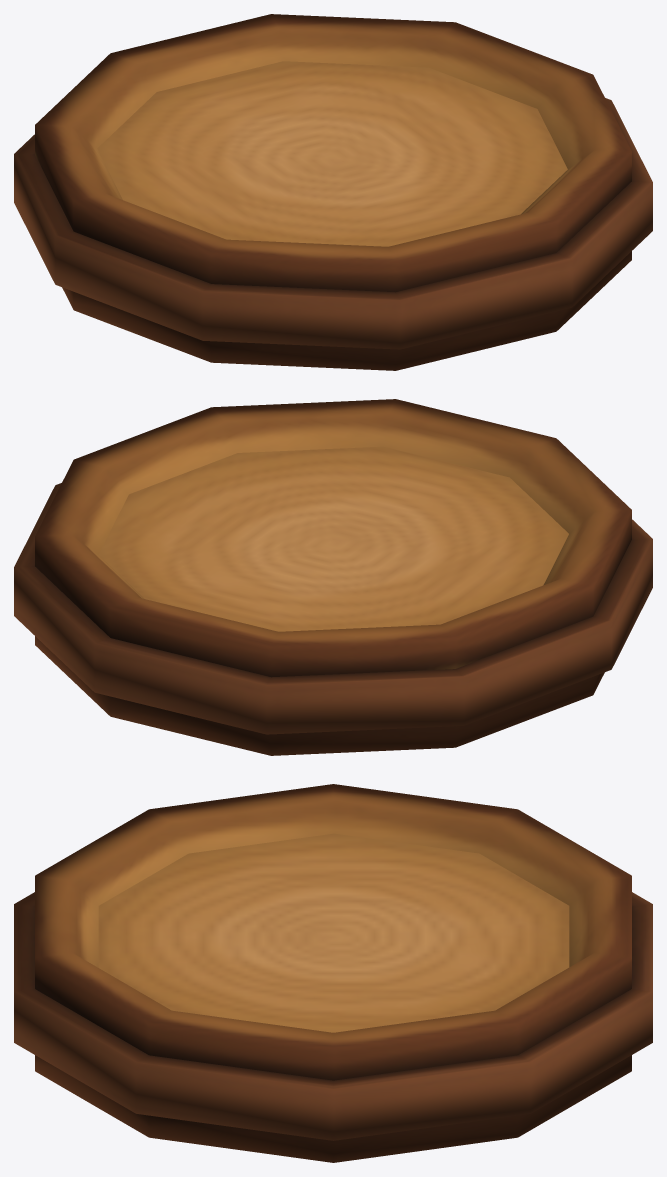
Rendered from JetonBois.FBX.
The picture shows the model from 3 angles, top to bottom: view 1: azimuth 30°, elevation 25°; view 2: azimuth 150°, elevation 25°; view 3: azimuth 270°, elevation 25°; orthographic projection. The views are drawn at different scales.
Visible parts, largest first — view 1: JetonBois; view 2: JetonBois; view 3: JetonBois.
Boxes of the visible parts, x1,y1,x2,y2 form: JetonBois: (14,14,652,370); JetonBois: (14,399,652,755); JetonBois: (14,784,652,1162).
Size of the model in its own units: 0.91 by 0.17 by 0.8655.
